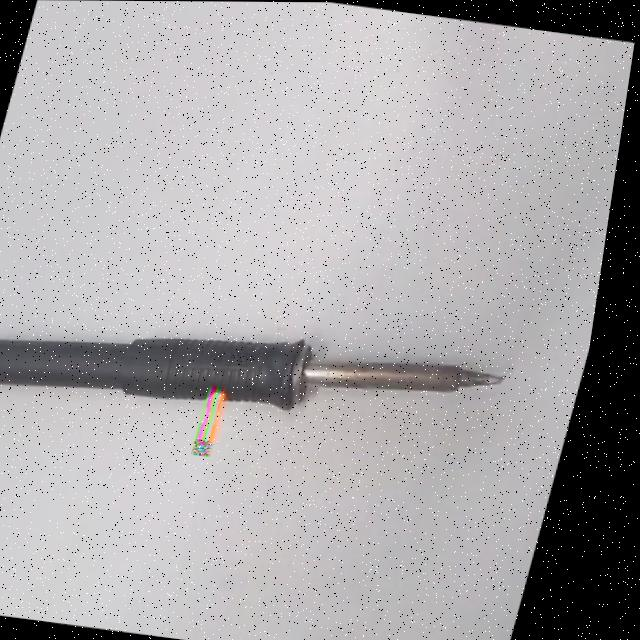soldering_iron: (0, 286, 522, 455)
